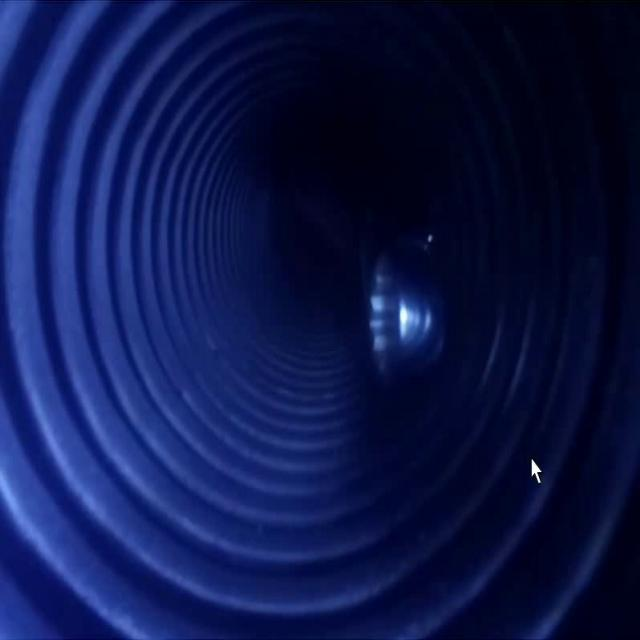metal piece: (370, 229, 448, 383)
